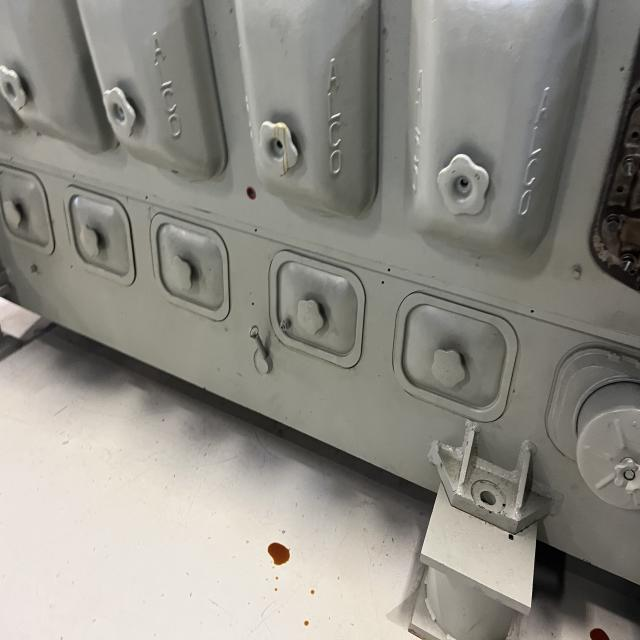Oil Leak: (257, 118, 301, 179), (265, 537, 294, 568), (261, 604, 271, 621)
